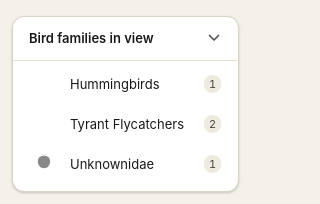
it: FamilyLegend › toggle button expands and collapses the entries
Click the button "Bird families in view": click(126, 38) x1=13 y1=16 x2=238 y2=60
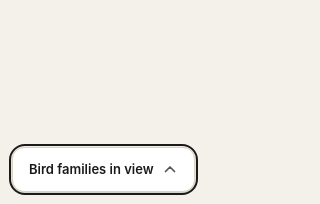
expect no buttons with test id "family-legend-entry" are shown: met
expect the button "Bird families in view" is collapsed: met, box x1=13 y1=148 x2=194 y2=191
